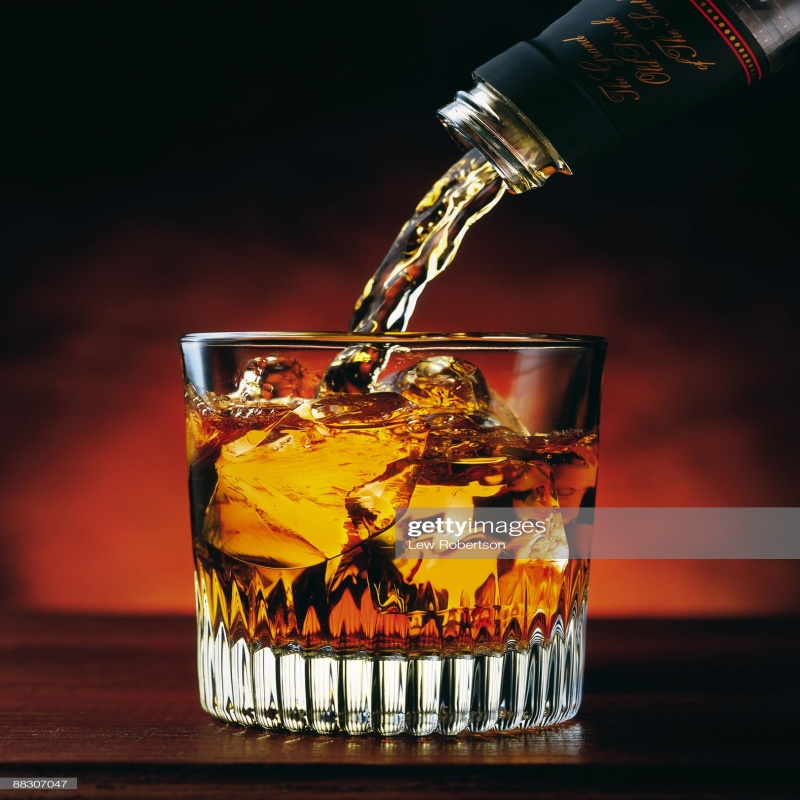whiskey: (175, 328, 608, 724)
